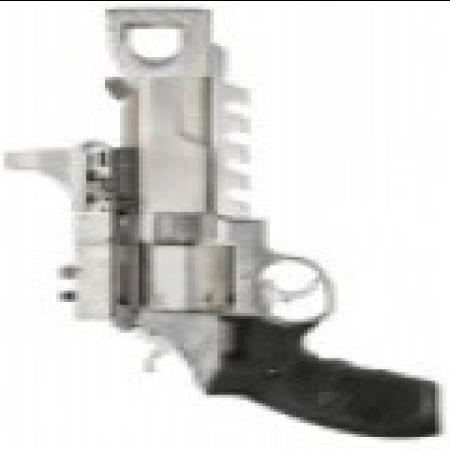Pistol: (60, 9, 442, 448)
